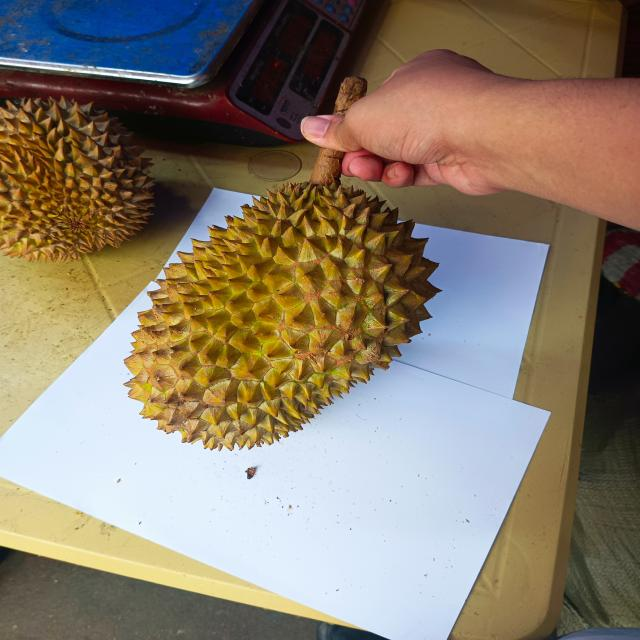mature: (121, 175, 439, 448), (1, 94, 158, 263)
